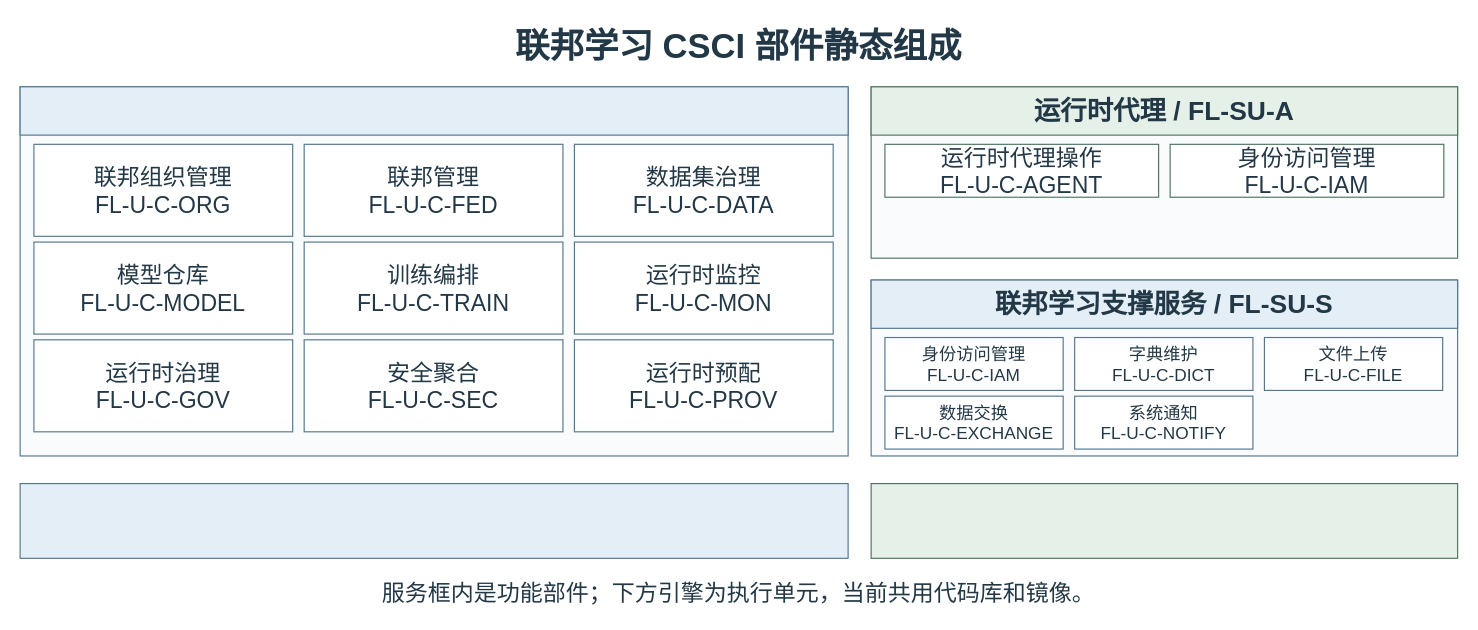
Image size: 1478x630. Some labels were removed from this diagram. The shapes that lost their labels are listed below. From the top down, each one's centre as x and y in pixels, then its label:
At point 433,110: "联邦学习平台服务 / FL-SU-P".
At point 433,520: "平台侧执行单元 联邦学习平台侧聚合引擎 / FL-SU-AGG".
At point 1164,520: "机构侧执行单元 参与机构侧训练引擎 / FL-SU-E".
